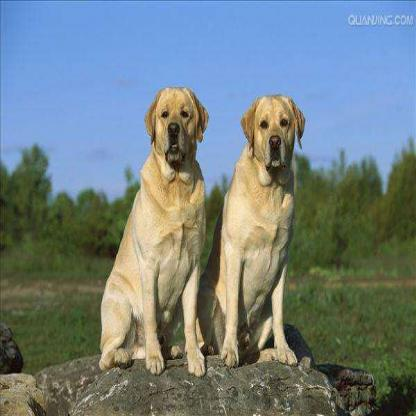dog: (99, 88, 206, 383), (199, 92, 306, 372)
